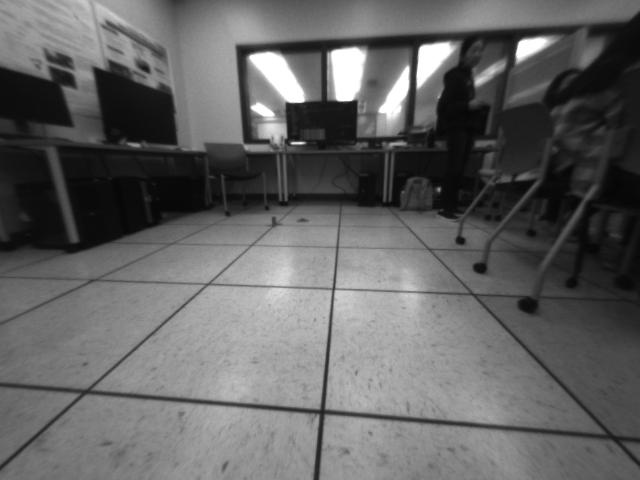X: (264, 216, 283, 228)
